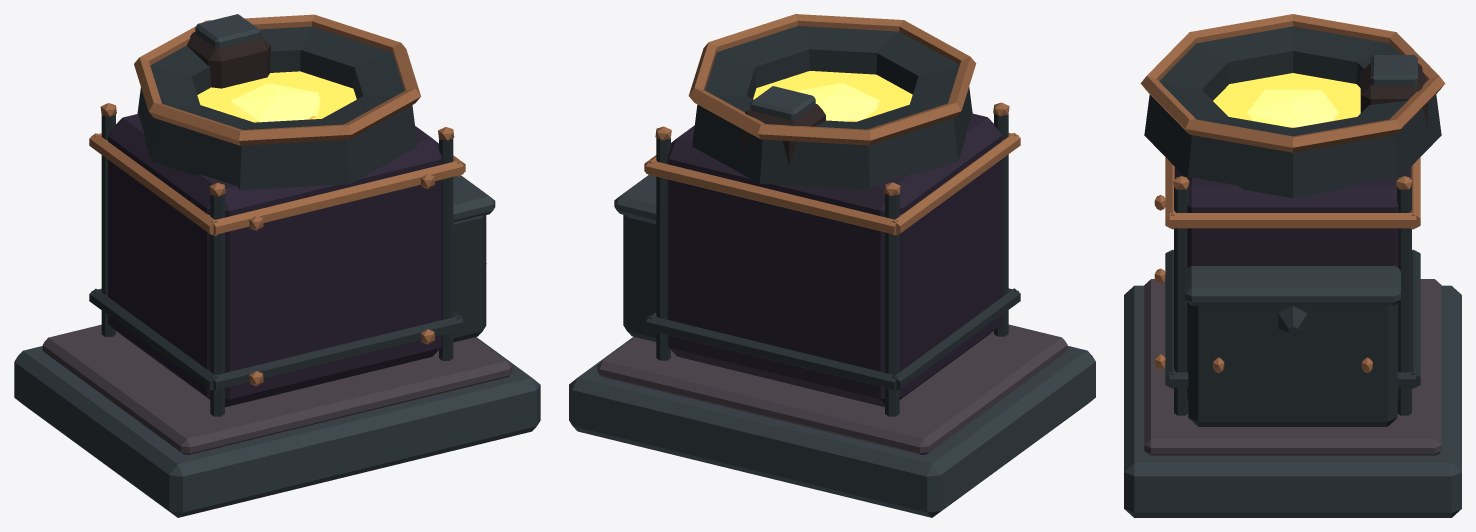
Rendered from rift_crucible_forge.glb.
The picture shows the model from 3 angles, left to right: view 1: azimuth 30°, elevation 25°; view 2: azimuth 150°, elevation 25°; view 3: azimuth 270°, elevation 25°; orthographic projection. The views are drawn at different scales.
Visible parts, largest first — view 1: rift_crucible_forge; view 2: rift_crucible_forge; view 3: rift_crucible_forge.
Boxes of the visible parts, <box> form: rift_crucible_forge: <box>14,14,540,517</box>; rift_crucible_forge: <box>569,14,1095,517</box>; rift_crucible_forge: <box>1124,14,1461,517</box>.
Size of the model in its own units: 1.3 by 1.19 by 1.
